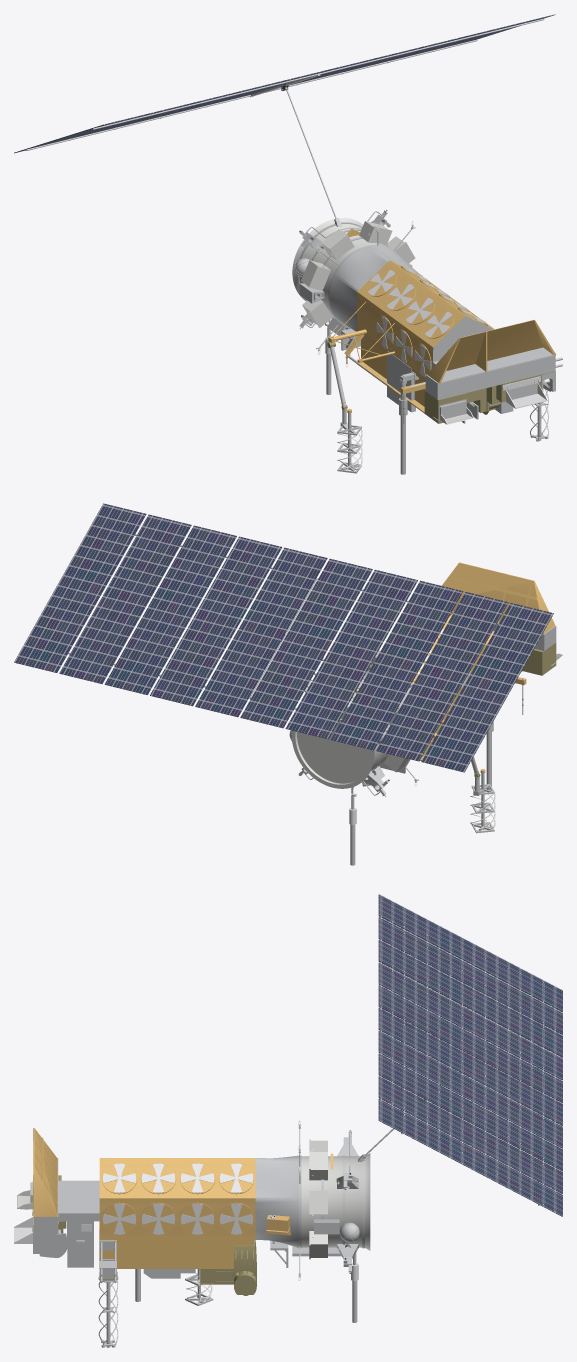
File: poes.glb
3 renders of one model, top to bottom at view 1: azimuth 30°, elevation 25°; view 2: azimuth 150°, elevation 25°; view 3: azimuth 270°, elevation 25°, orthographic. The views are drawn at different scales.
Parts seen in each view (by area): view 1: poes; view 2: poes; view 3: poes.
Part boxes in pixels (x1,y1,x2,y2): poes: (14, 14, 562, 474); poes: (14, 503, 562, 865); poes: (14, 894, 562, 1347).
Size of the model in its own units: 7.21 by 4.87 by 7.4.
Materials: 8 (1 with a texture image).
